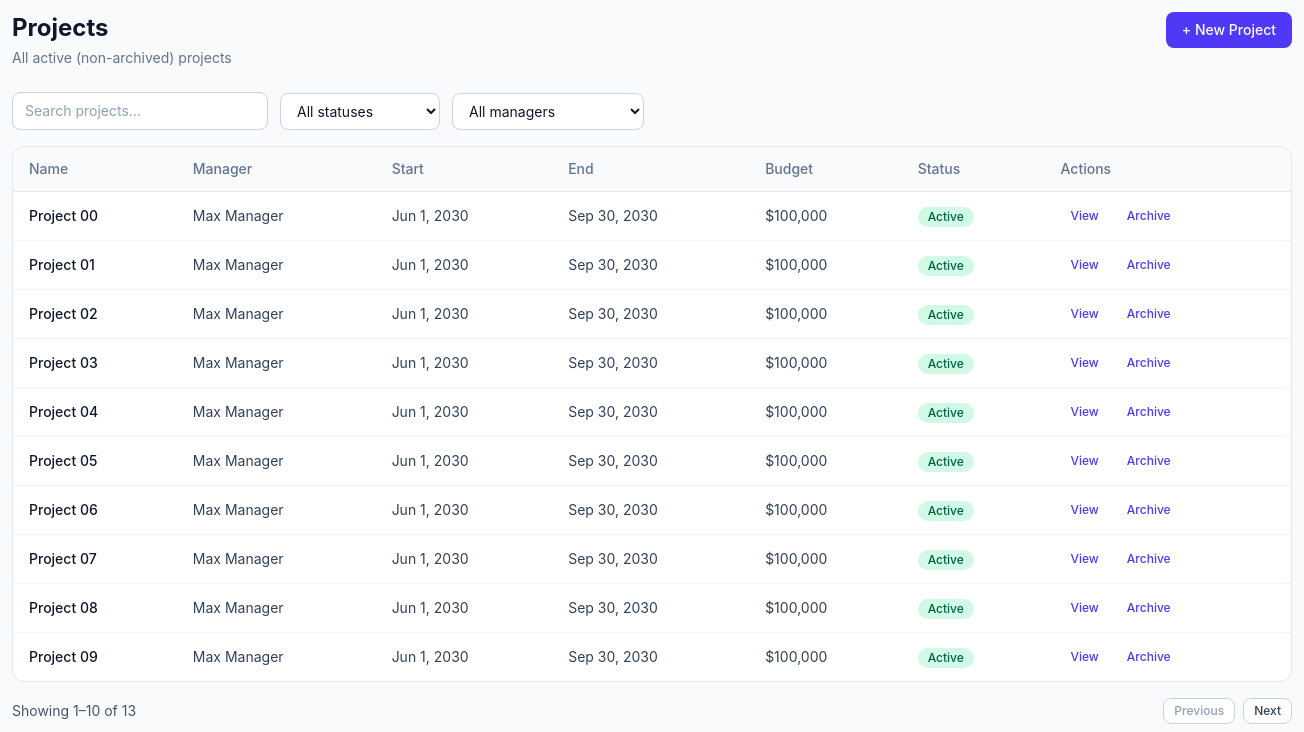
ProjectListPage › as an admin › paginates ten projects per page and resets to page one when filtering
Expected: the text "Showing 1–10 of 13" is shown, [12,701,136,721]
Expected: the text "Project 10" is not shown
Click the button "Next". click: {"x": 1268, "y": 711}
box: [1243,698,1292,724]
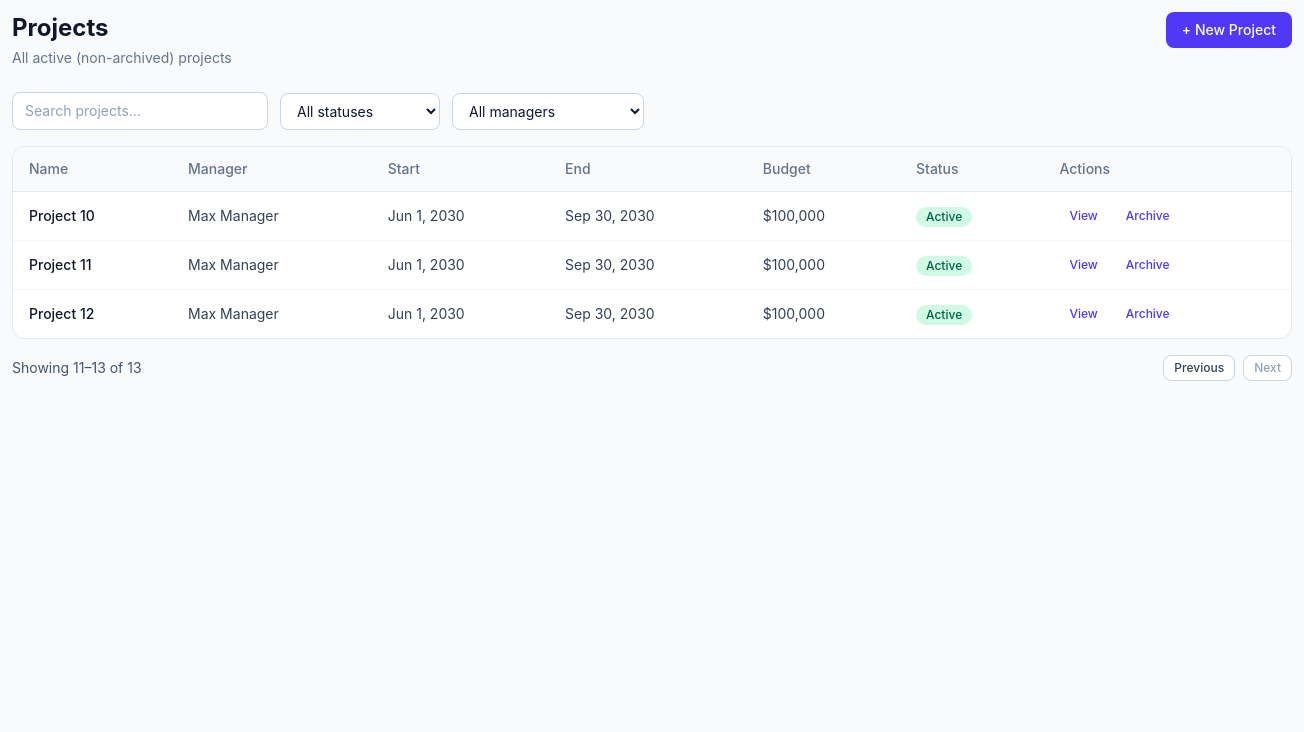
Now the text "Showing 11–13 of 13" is shown, box [12,358,142,378]
Now the text "Project 12" is shown, box [29,305,94,322]
Type "Project 0" into the field labelled "Search projects". click: {"x": 140, "y": 111}
box: [12,92,268,130]
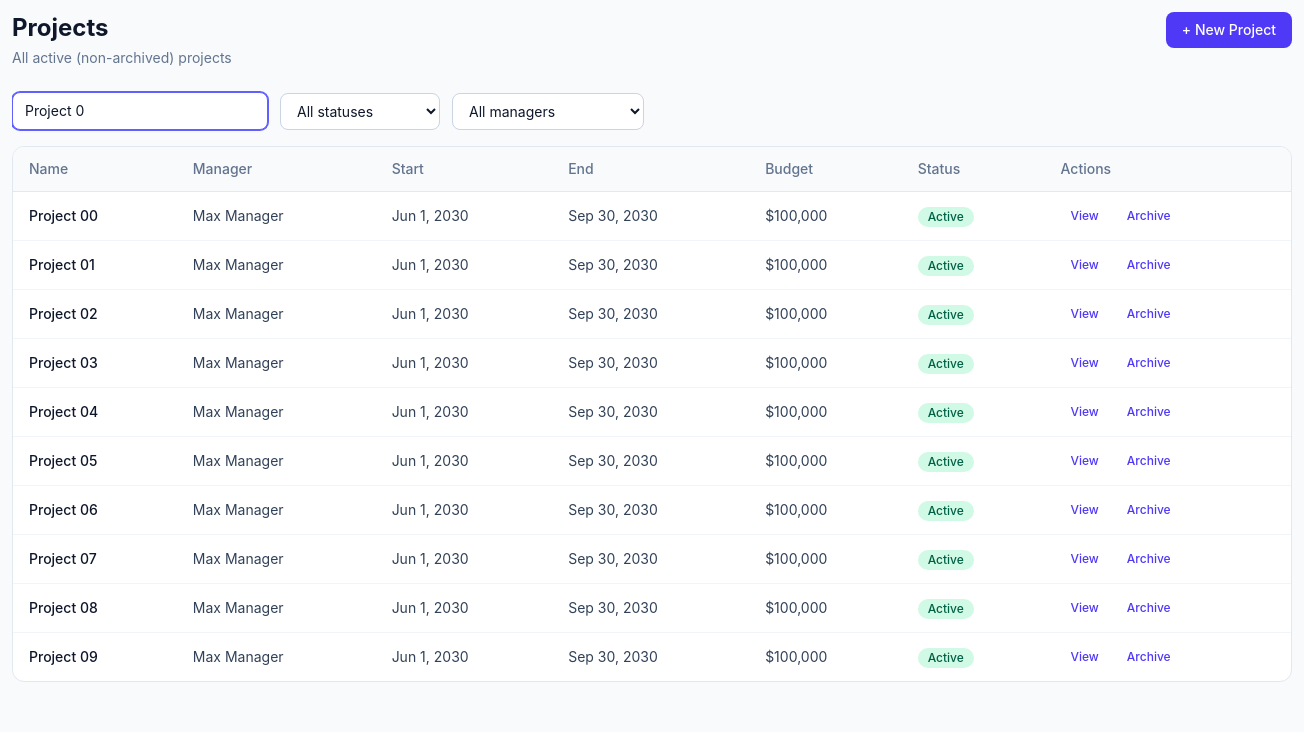
Now the text "Project 00" is shown, box [29,207,98,224]
Now the text "Showing" is gone
